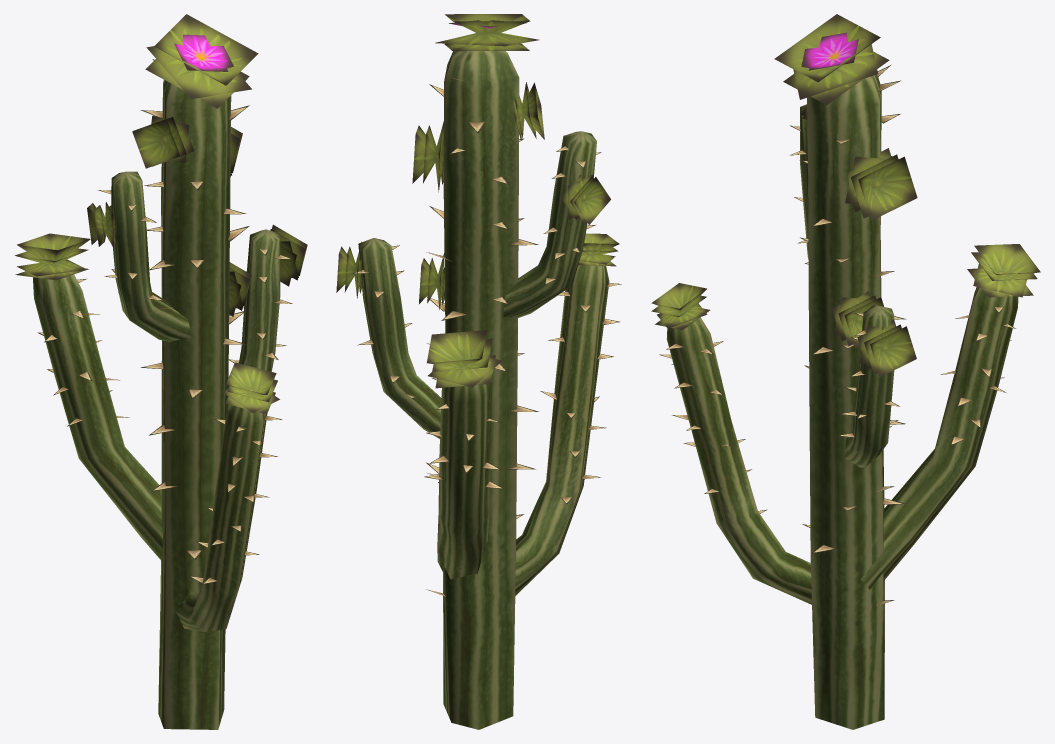
Rendered from cactus_03.FBX.
3 renders of one model, left to right at view 1: azimuth 30°, elevation 25°; view 2: azimuth 150°, elevation 25°; view 3: azimuth 270°, elevation 25°, orthographic. The views are drawn at different scales.
Parts seen in each view (by area): view 1: cactus_03; view 2: cactus_03; view 3: cactus_03.
Part boxes in pixels (box(x1,y1,x2,y2)): cactus_03: box(15, 14, 307, 729); cactus_03: box(336, 14, 621, 729); cactus_03: box(651, 14, 1040, 729).
Bounding box in the file's own units: 21.72 × 60.36 × 31.2.
